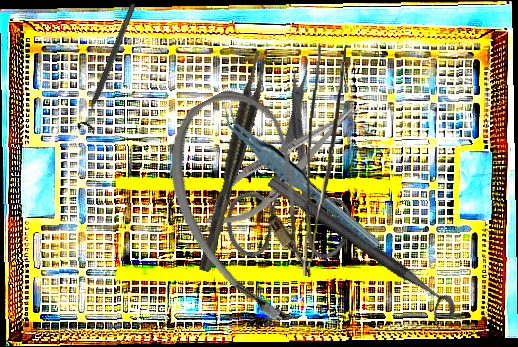Cannula: (139, 75, 362, 338)
Fixation Ring: (255, 174, 461, 331), (74, 0, 144, 135)
Iris Scissors: (168, 60, 403, 300)
Needle Holder: (195, 90, 371, 243)
Tissue Forceps: (215, 91, 383, 267), (191, 49, 274, 273), (302, 45, 347, 278)
